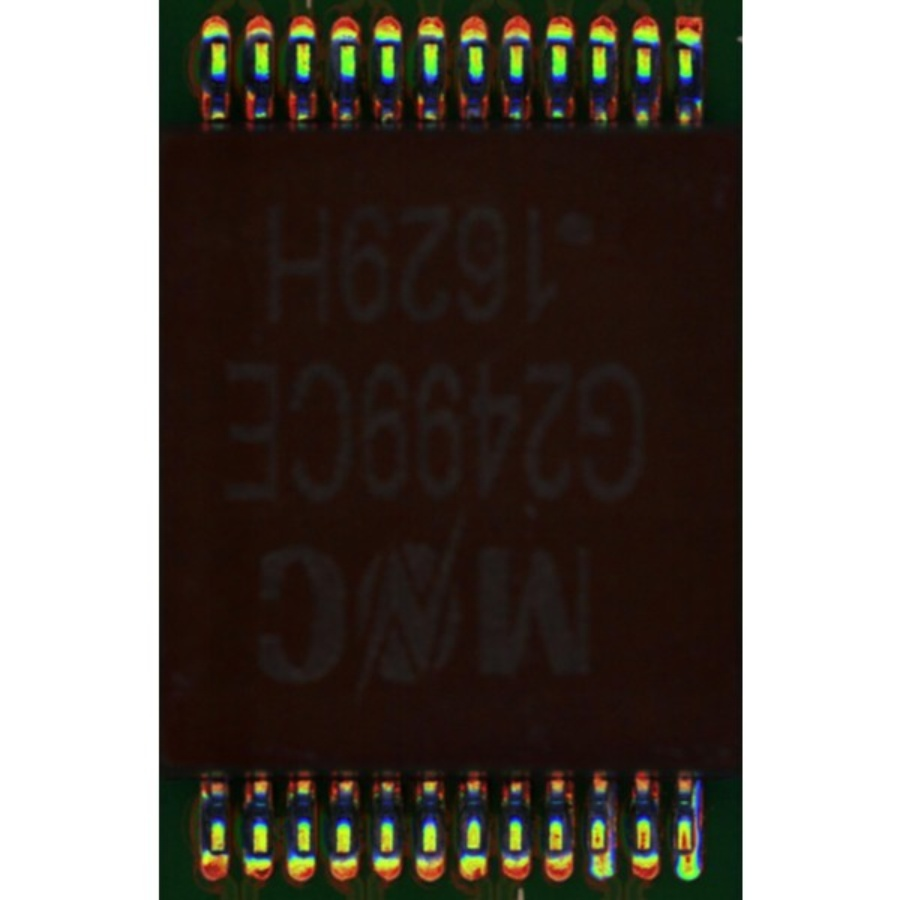Bad_podu: (679, 841, 692, 866)
Bad_qiaojiao: (691, 779, 702, 854)
